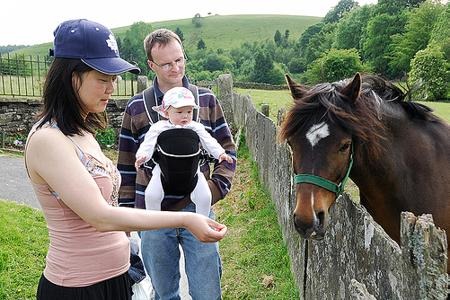person: (26, 20, 230, 300)
